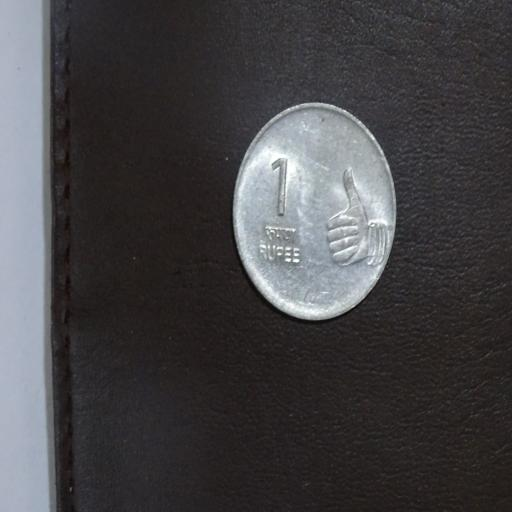rupee1: (231, 103, 395, 319)
